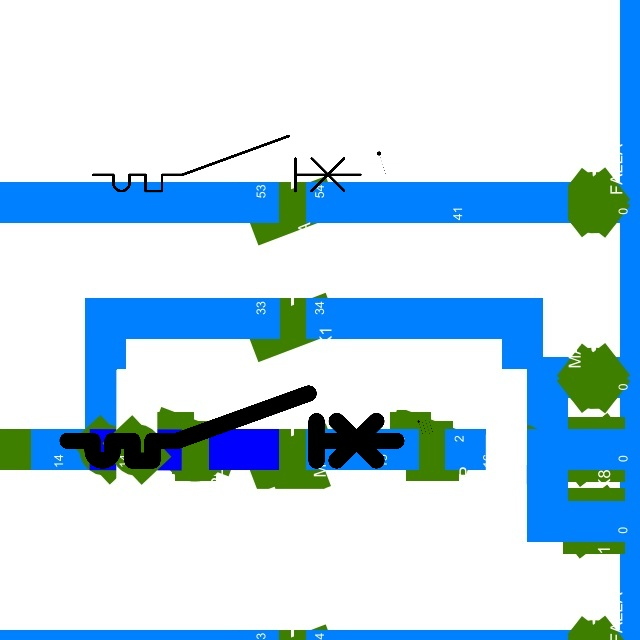interruptor_termomagnetico: (59, 385, 405, 469), (86, 129, 367, 198)
